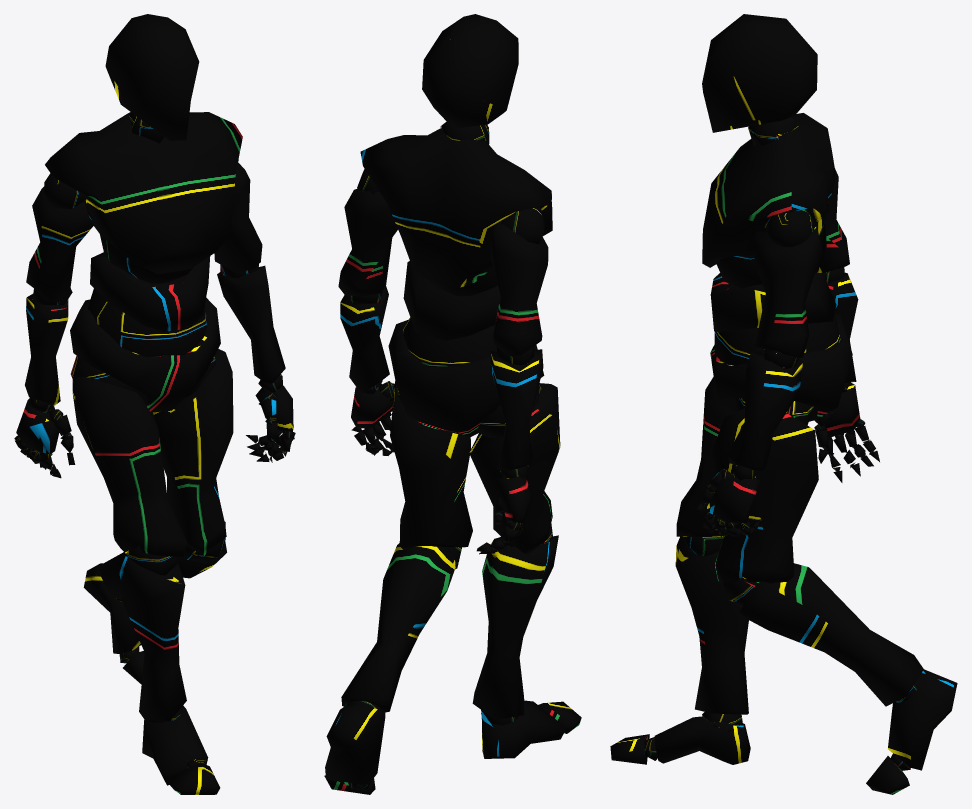
File: y-bot-origin_000011.obj
3 renders of one model, left to right at view 1: azimuth 30°, elevation 25°; view 2: azimuth 150°, elevation 25°; view 3: azimuth 270°, elevation 25°, orthographic. The views are drawn at different scales.
Visible parts, largest first — view 1: Alpha_Surface_Alpha_SurfaceMesh, Alpha_Joints_Alpha_JointsMesh; view 2: Alpha_Surface_Alpha_SurfaceMesh, Alpha_Joints_Alpha_JointsMesh; view 3: Alpha_Surface_Alpha_SurfaceMesh, Alpha_Joints_Alpha_JointsMesh.
Part boxes in pixels (x1,y1,x2,y2): Alpha_Surface_Alpha_SurfaceMesh: [15, 14, 293, 794]; Alpha_Joints_Alpha_JointsMesh: [14, 112, 295, 768]; Alpha_Surface_Alpha_SurfaceMesh: [324, 14, 581, 794]; Alpha_Joints_Alpha_JointsMesh: [346, 121, 553, 789]; Alpha_Surface_Alpha_SurfaceMesh: [610, 14, 957, 794]; Alpha_Joints_Alpha_JointsMesh: [644, 117, 922, 770].
Size of the model in its own units: 0.5621 by 1.77 by 0.7421.
